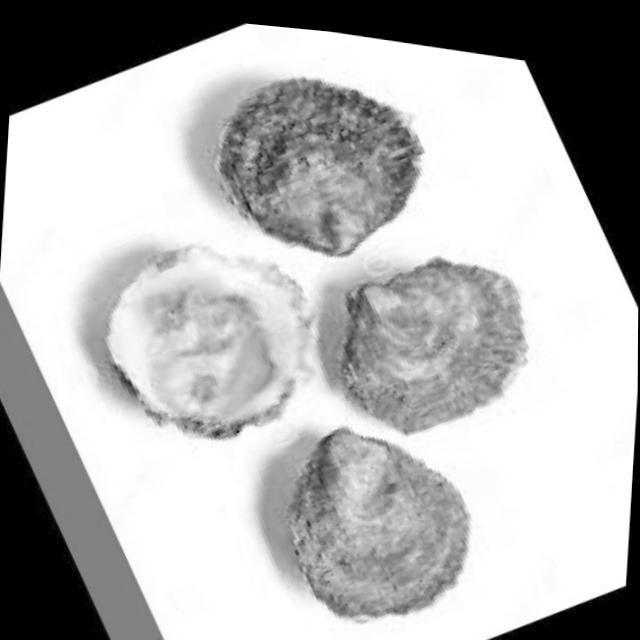Oyster-Indeterminate: (219, 78, 423, 255), (289, 428, 470, 619), (342, 258, 527, 433)
Oyster-Open: (100, 245, 314, 439)
